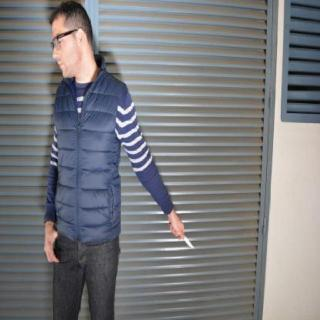knife: (167, 223, 195, 251)
